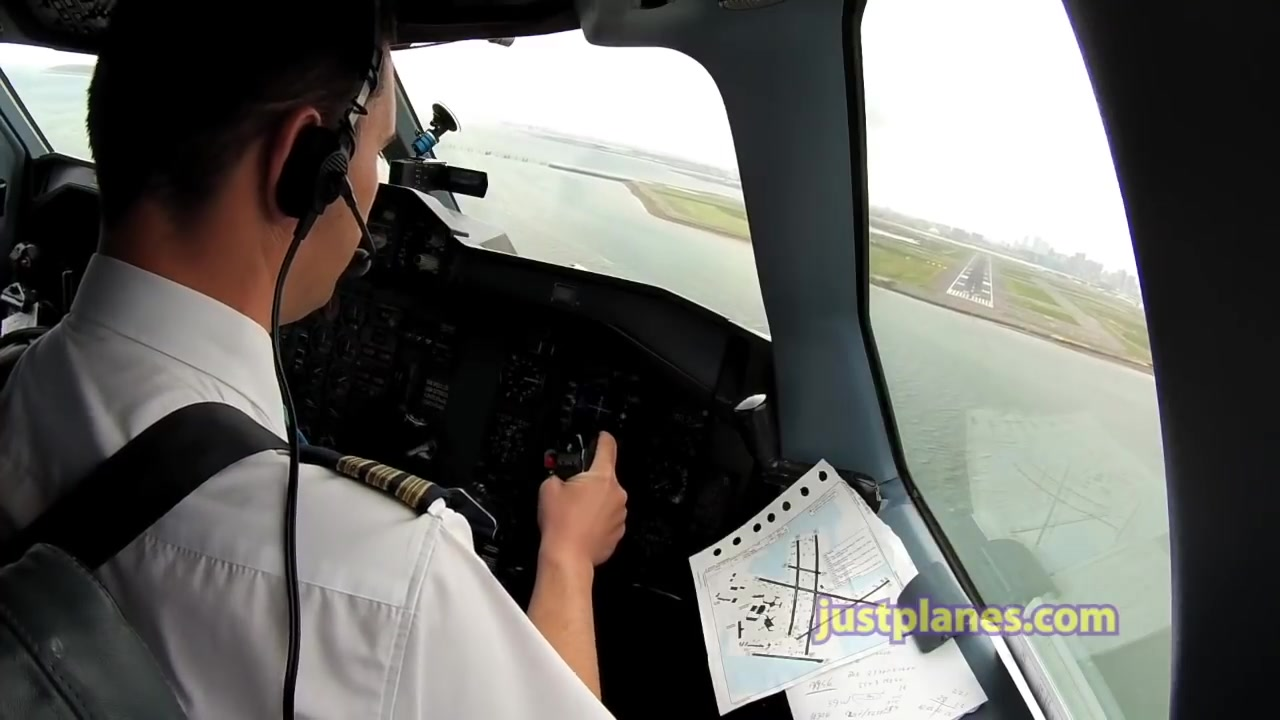entrance: (946, 288, 991, 306)
runway: (942, 252, 998, 310)
